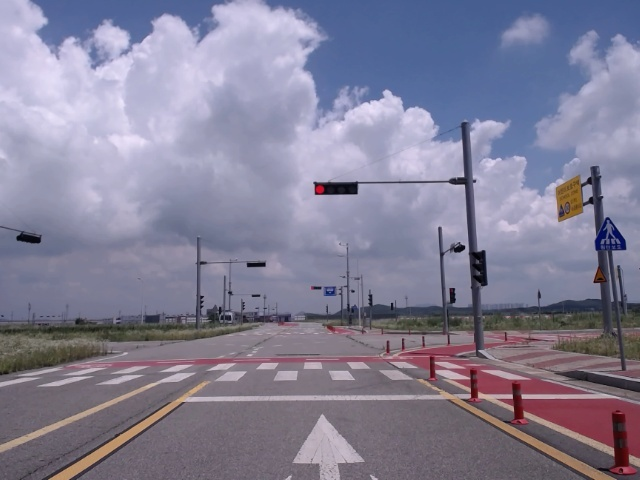red_4: (315, 183, 358, 195)
